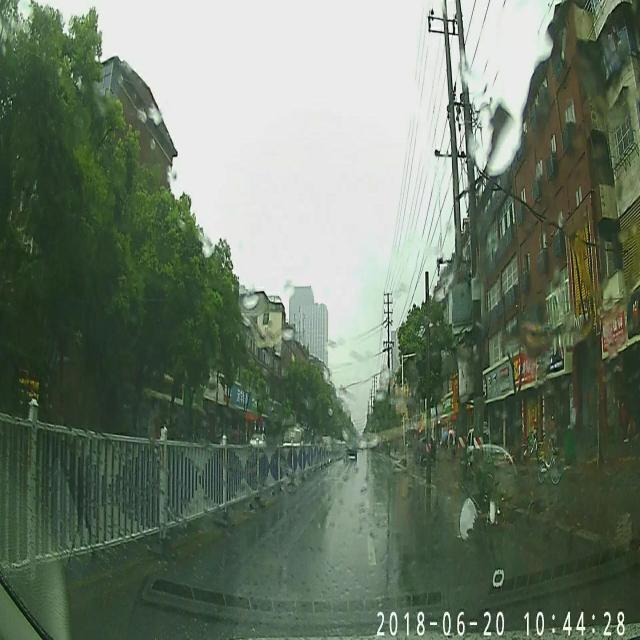car: (466, 427, 490, 463), (282, 421, 304, 456), (416, 436, 436, 460), (248, 433, 266, 449), (345, 437, 358, 457)
